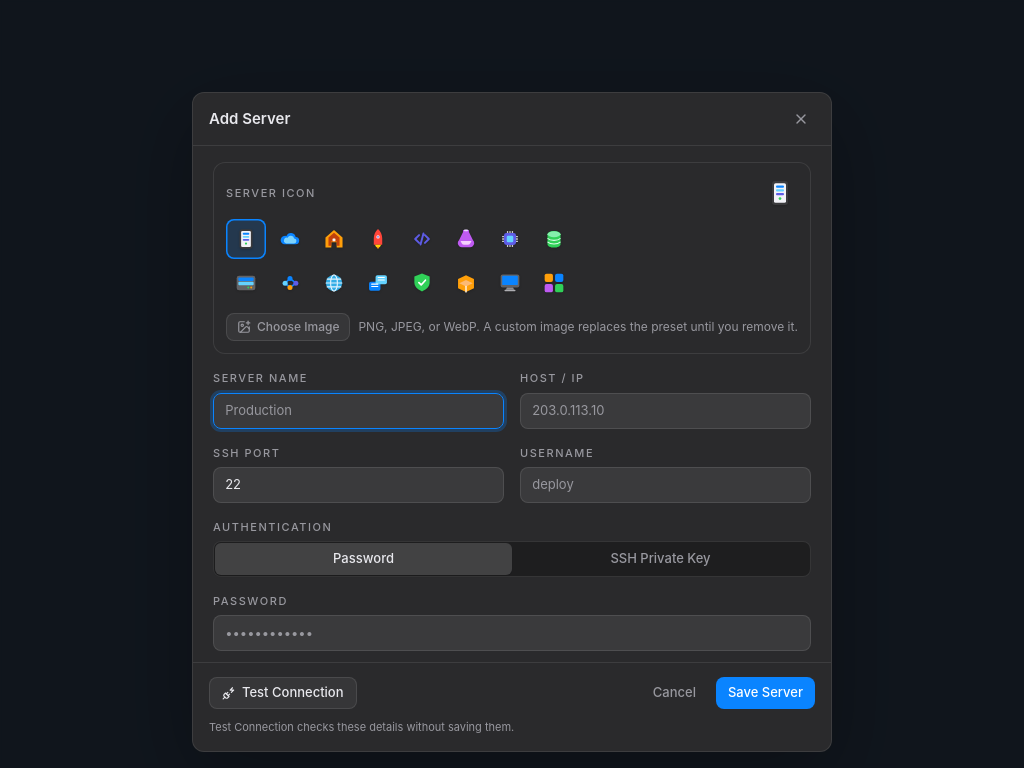
Test case: AddServerModal › requires name, host, username, and password for a new server
Click the button "Save Server": (765, 693) [716,677,815,709]
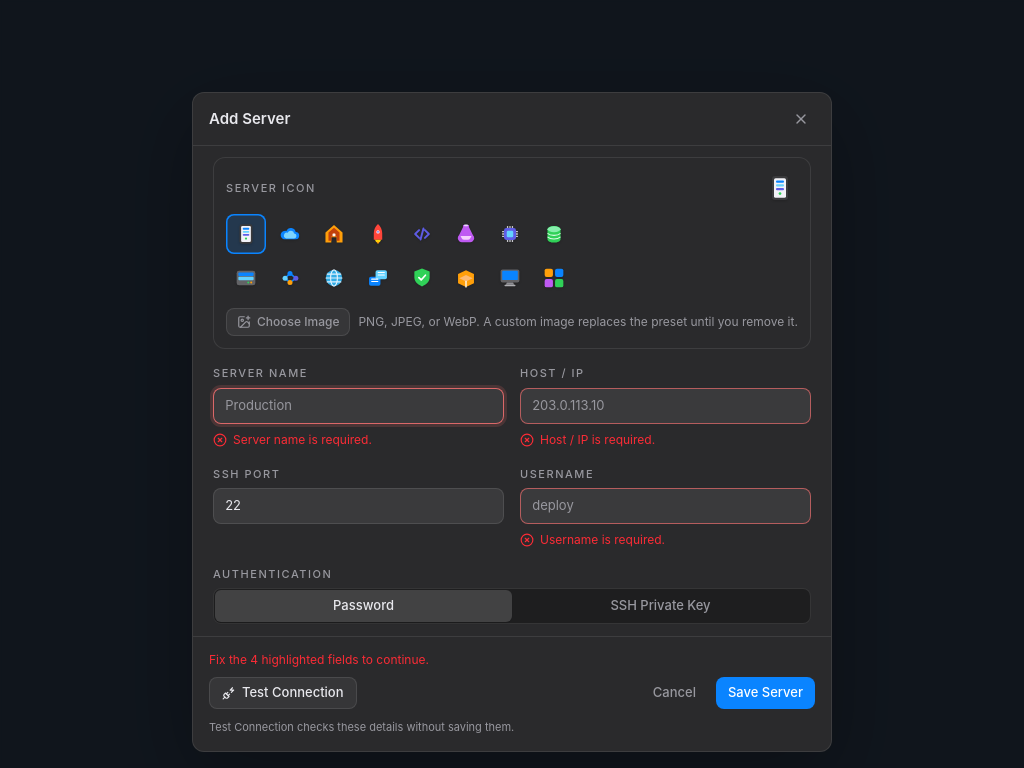
Expected: the text "Server name is required." is shown, [213,432,372,446]
Expected: the text "Host / IP is required." is shown, [520,432,655,446]
Expected: the text "Username is required." is shown, [520,532,665,547]
